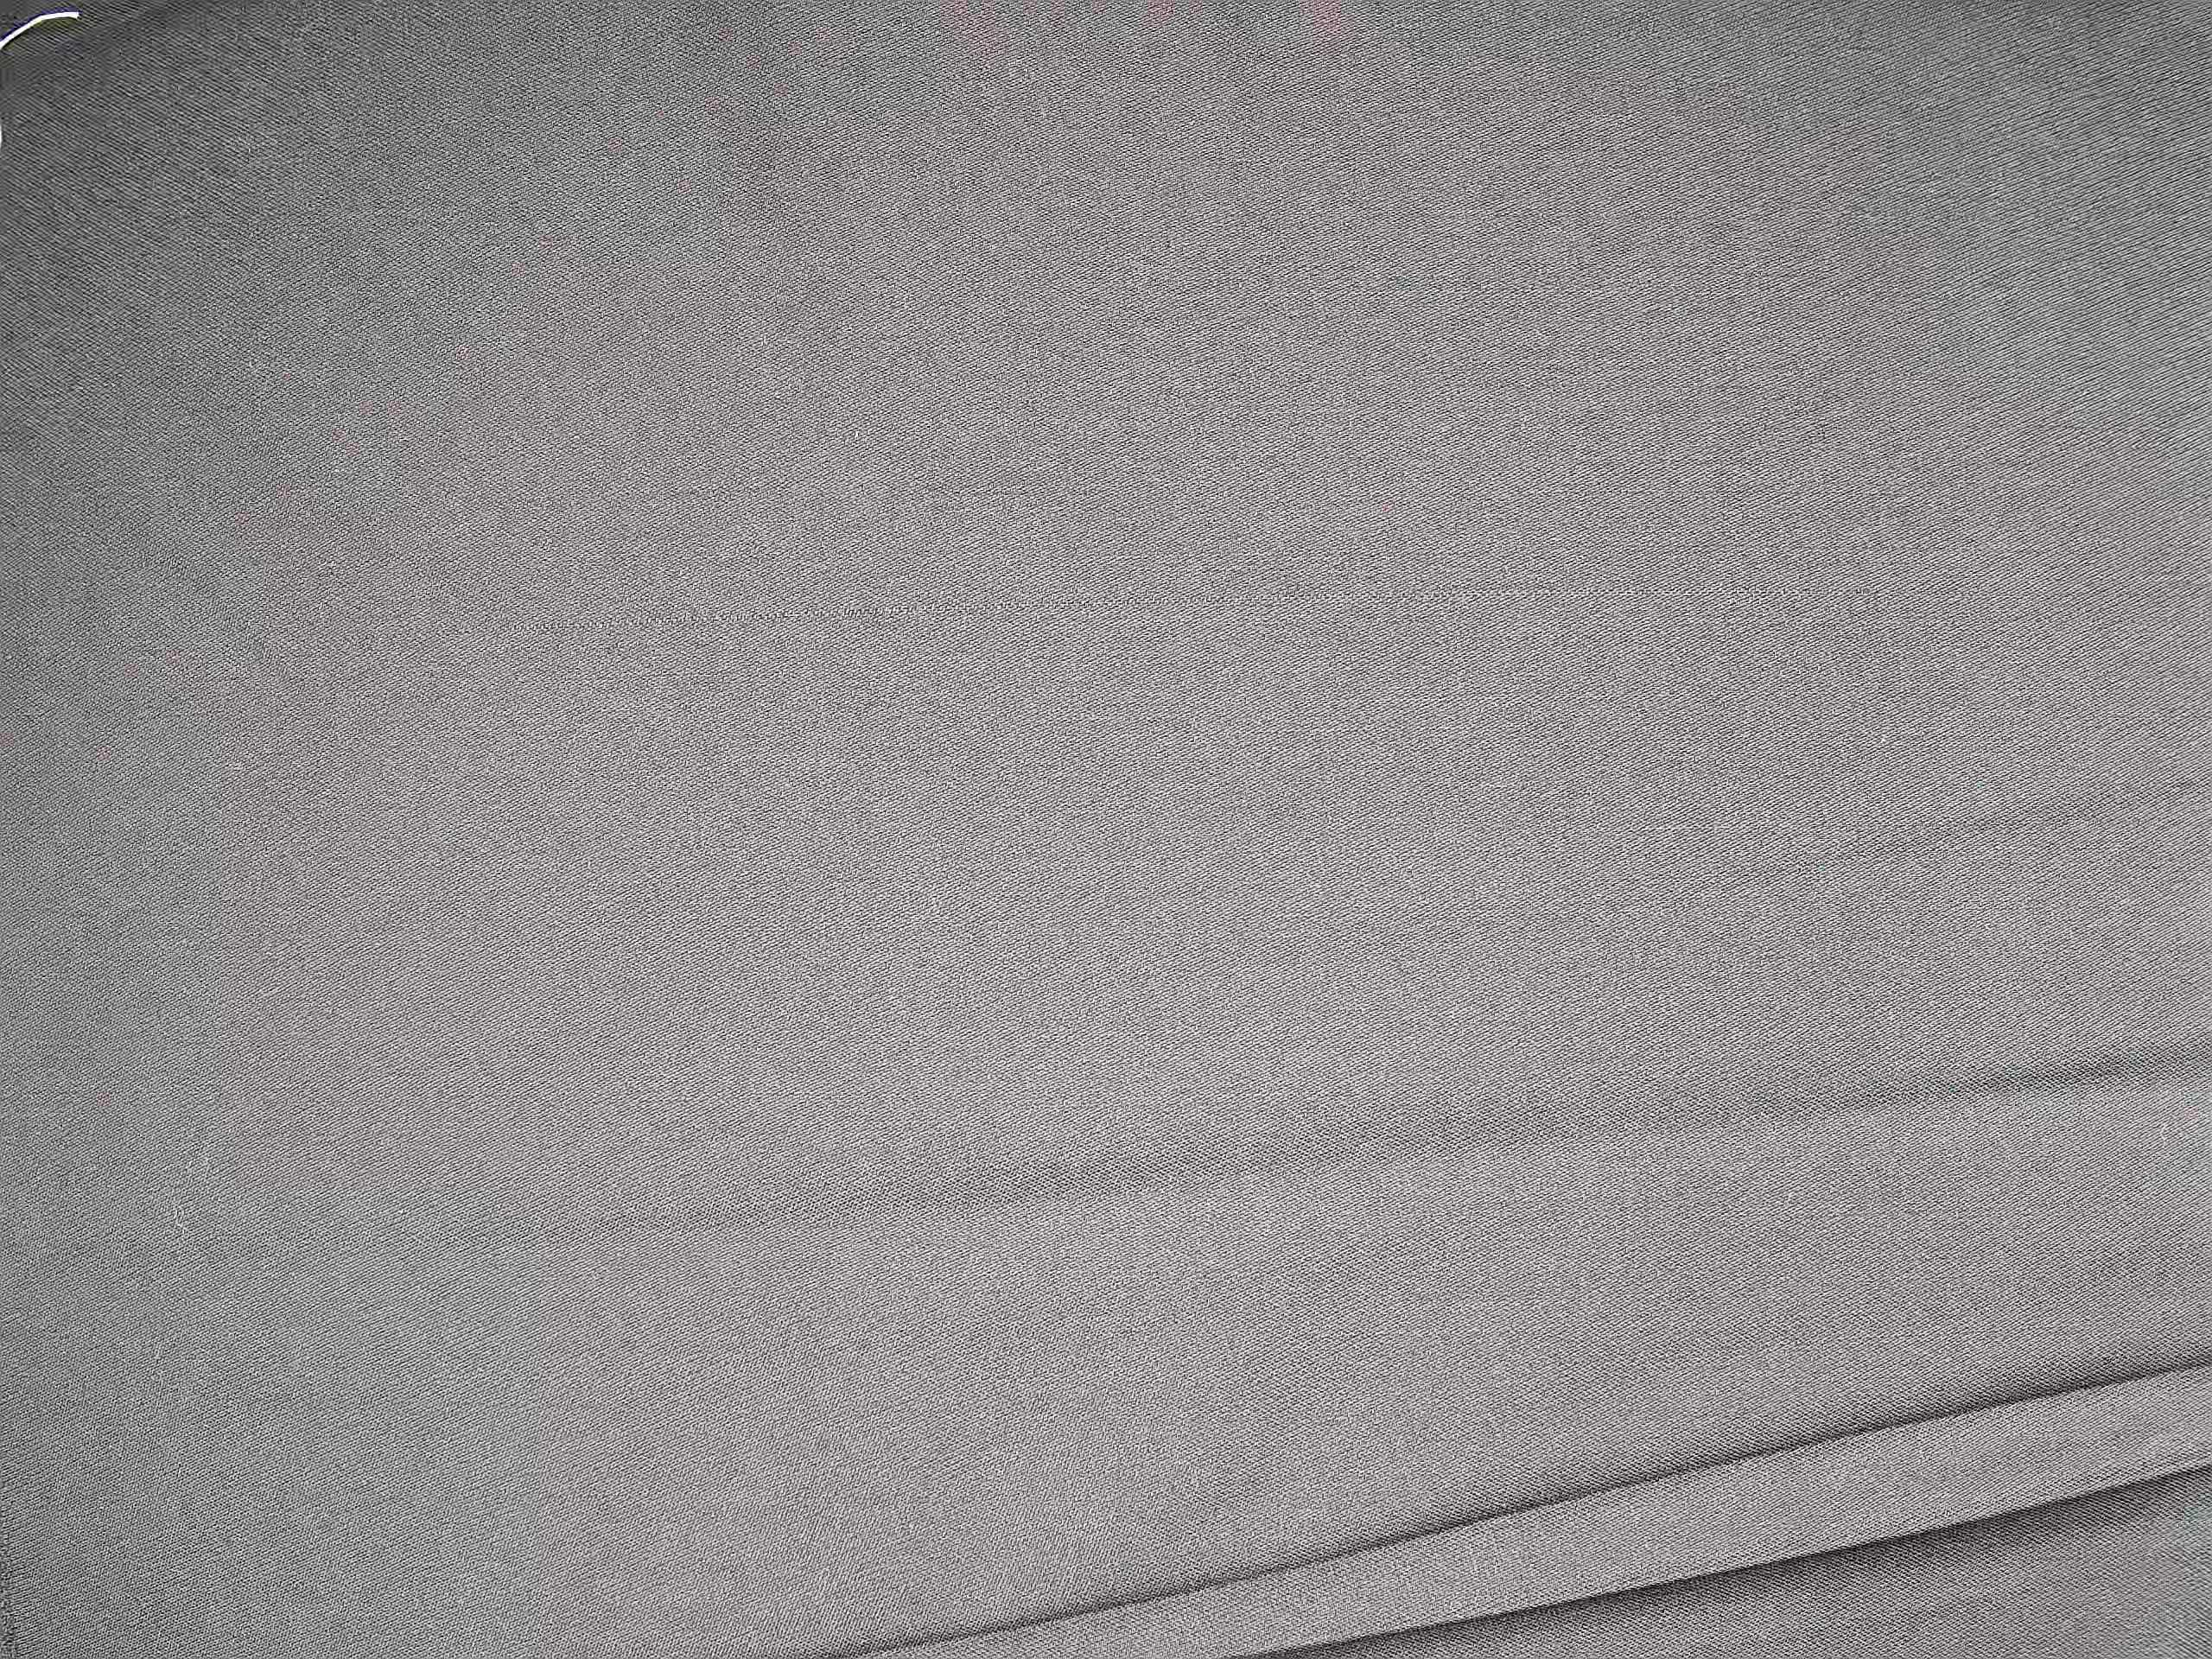thin-spinning: (21, 575, 1824, 662)
